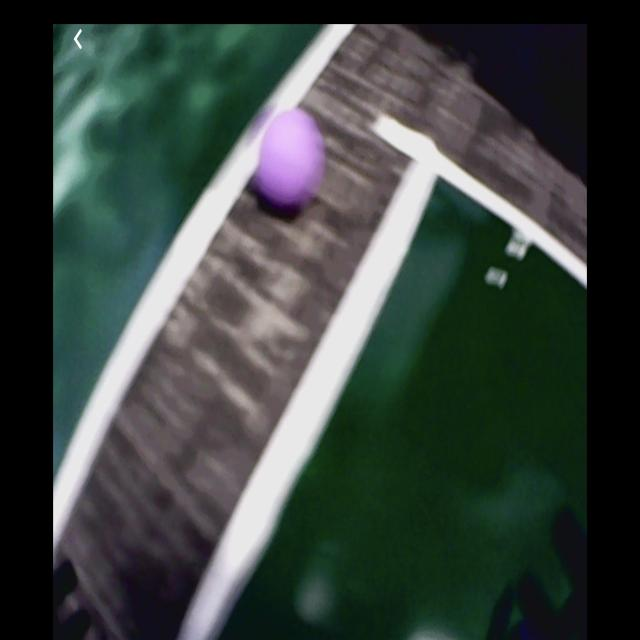ball: (261, 111, 323, 205)
